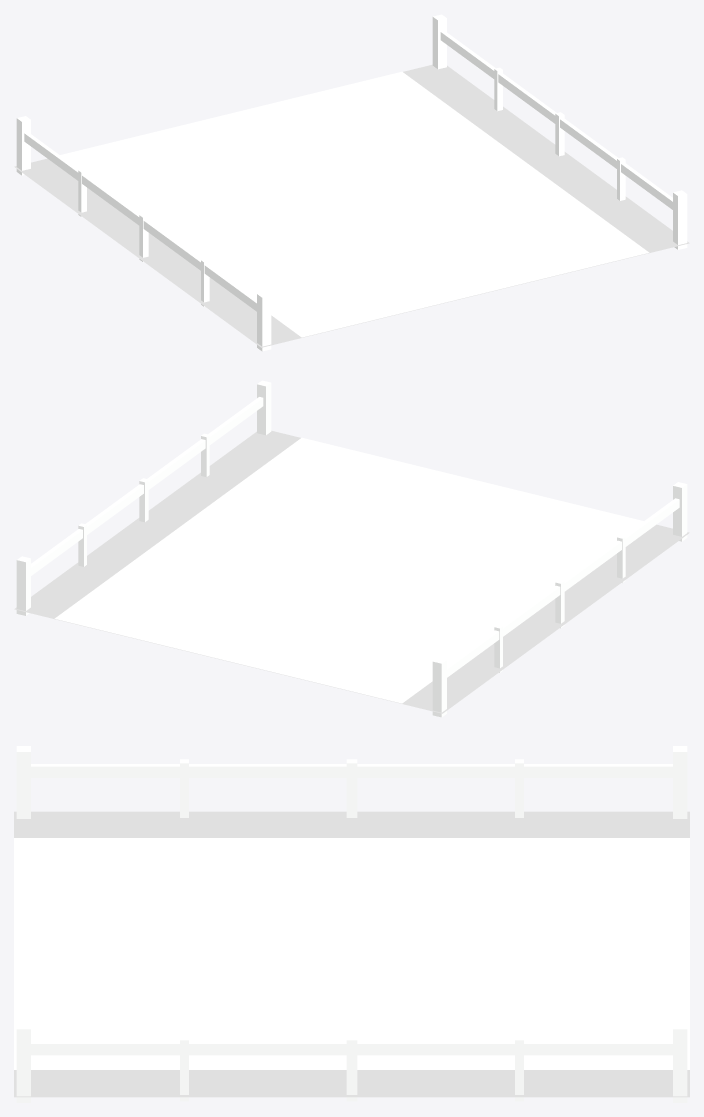
The model's file is tile_for_home_1x1.017.glb.
3 renders of one model, top to bottom at view 1: azimuth 30°, elevation 25°; view 2: azimuth 150°, elevation 25°; view 3: azimuth 270°, elevation 25°, orthographic. The views are drawn at different scales.
Visible parts, largest first — view 1: tile_for_home_1x1.017(Clone); view 2: tile_for_home_1x1.017(Clone); view 3: tile_for_home_1x1.017(Clone).
Boxes of the visible parts, x1,y1,x2,y2 form: tile_for_home_1x1.017(Clone): (14,14,689,351); tile_for_home_1x1.017(Clone): (14,380,689,717); tile_for_home_1x1.017(Clone): (14,746,689,1102).
Size of the model in its own units: 8 by 0.959 by 8.
Materials: 1 (1 with a texture image).
